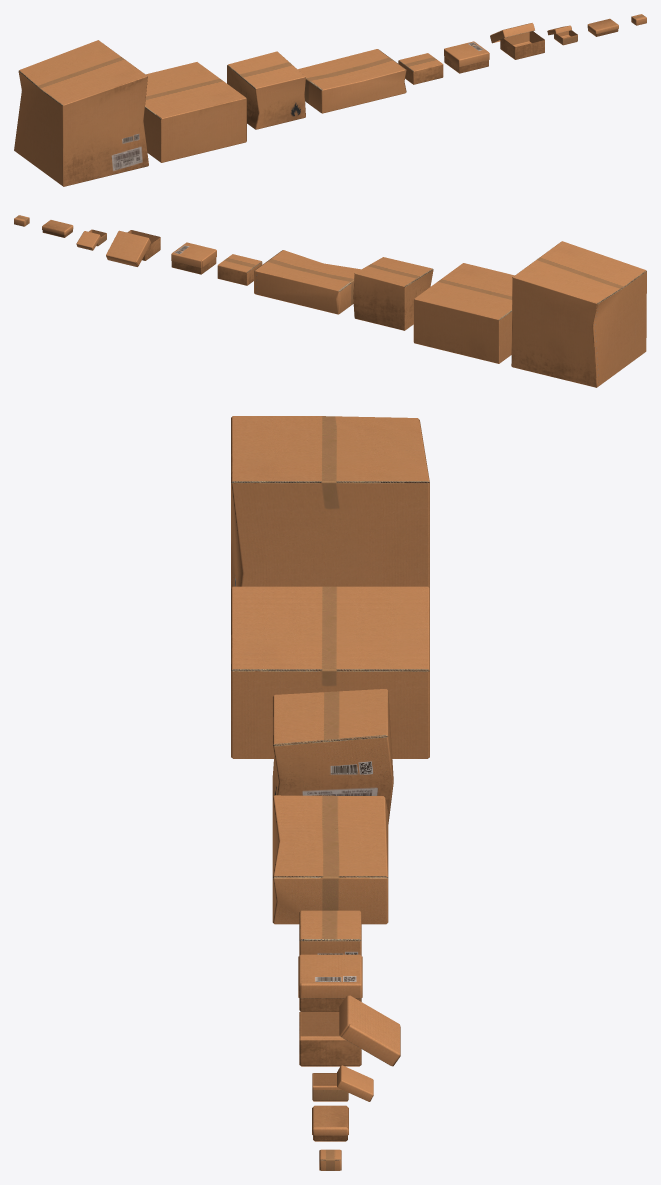
File: uploads_files_1979612_cardboar_box_pack.FBX
3 renders of one model, top to bottom at view 1: azimuth 30°, elevation 25°; view 2: azimuth 150°, elevation 25°; view 3: azimuth 270°, elevation 25°, orthographic. The views are drawn at different scales.
Parts seen in each view (by area): view 1: cardboar_box_001, cardboar_box_002, cardboar_box_004, cardboar_box_003, cardboar_box_006, cardboar_box_005, cardboar_box_battom_007, cardboar_box_009, cardboar_box_top_007, cardboar_box_battom_008; view 2: cardboar_box_001, cardboar_box_002, cardboar_box_004, cardboar_box_003, cardboar_box_top_007, cardboar_box_006, cardboar_box_005, cardboar_box_009, cardboar_box_battom_007, cardboar_box_top_008; view 3: cardboar_box_001, cardboar_box_002, cardboar_box_004, cardboar_box_003, cardboar_box_006, cardboar_box_005, cardboar_box_battom_007, cardboar_box_top_007, cardboar_box_009.
Boxes of the visible parts, x1,y1,x2,y2 form: cardboar_box_001: (14, 40, 148, 186); cardboar_box_002: (143, 62, 246, 162); cardboar_box_004: (298, 49, 406, 113); cardboar_box_003: (227, 51, 305, 129); cardboar_box_006: (444, 41, 489, 73); cardboar_box_005: (398, 53, 443, 84); cardboar_box_battom_007: (500, 31, 544, 59); cardboar_box_009: (587, 18, 618, 36); cardboar_box_top_007: (490, 23, 534, 43); cardboar_box_battom_008: (554, 30, 577, 45); cardboar_box_001: (511, 241, 646, 387); cardboar_box_002: (413, 263, 514, 363); cardboar_box_004: (254, 250, 360, 314); cardboar_box_003: (353, 257, 433, 330); cardboar_box_top_007: (106, 230, 150, 266); cardboar_box_006: (171, 242, 216, 274); cardboar_box_005: (217, 254, 262, 285); cardboar_box_009: (42, 220, 73, 237); cardboar_box_battom_007: (127, 230, 160, 260); cardboar_box_top_008: (76, 231, 100, 250); cardboar_box_001: (231, 416, 429, 587); cardboar_box_002: (231, 586, 429, 758); cardboar_box_004: (272, 795, 388, 924); cardboar_box_003: (272, 689, 393, 823); cardboar_box_006: (298, 954, 362, 1011); cardboar_box_005: (299, 910, 361, 955); cardboar_box_battom_007: (299, 1011, 361, 1066); cardboar_box_top_007: (339, 995, 400, 1066); cardboar_box_009: (312, 1105, 348, 1141).
Size of the model in its own units: 704 by 101 by 100.
